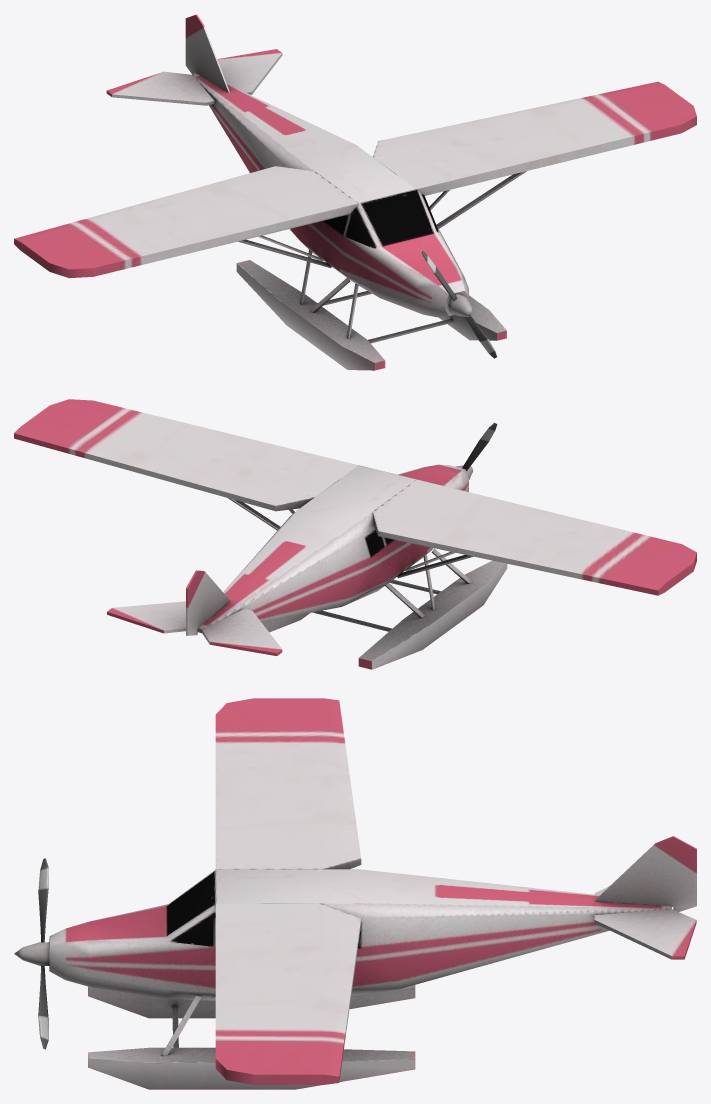
File: floatplane.glb
3 views of the same model, one above another, from view 1: azimuth 30°, elevation 25°; view 2: azimuth 150°, elevation 25°; view 3: azimuth 270°, elevation 25° (orthographic). The views are drawn at different scales.
Parts seen in each view (by area): view 1: floatplane; view 2: floatplane; view 3: floatplane.
Boxes of the visible parts, x1,y1,x2,y2 form: floatplane: [14, 14, 696, 370]; floatplane: [14, 399, 696, 669]; floatplane: [14, 698, 696, 1089].
Bounding box in the file's own units: 16.42 × 4.35 × 12.6.
1 material, 1 textured.
